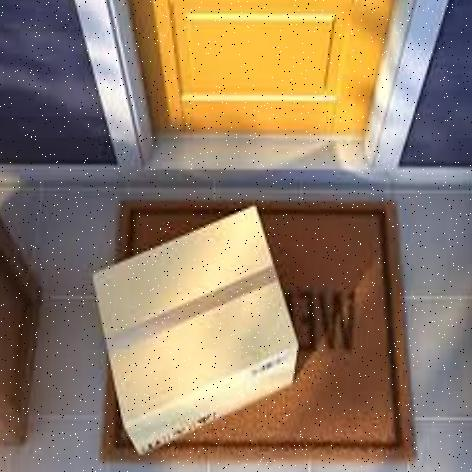Other: (86, 203, 304, 460)
